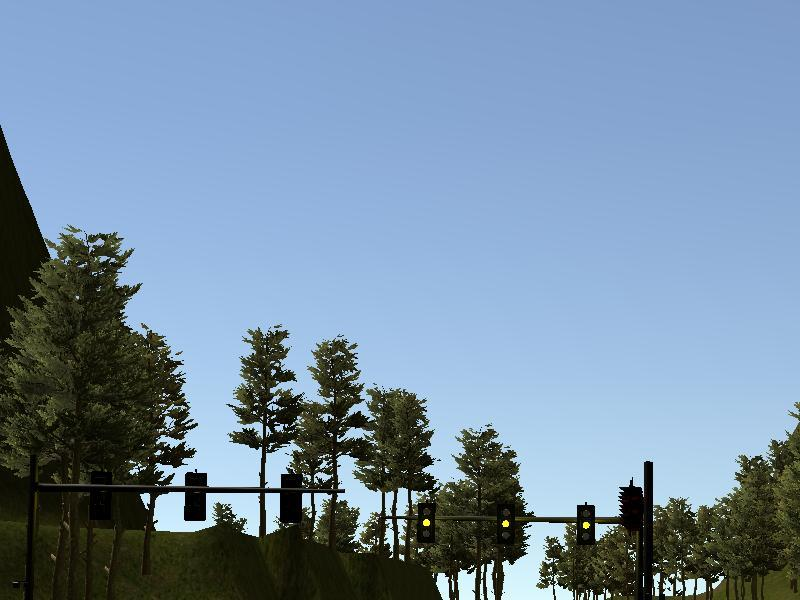Yellow: (577, 504, 596, 544), (417, 502, 434, 541), (498, 503, 514, 542)
